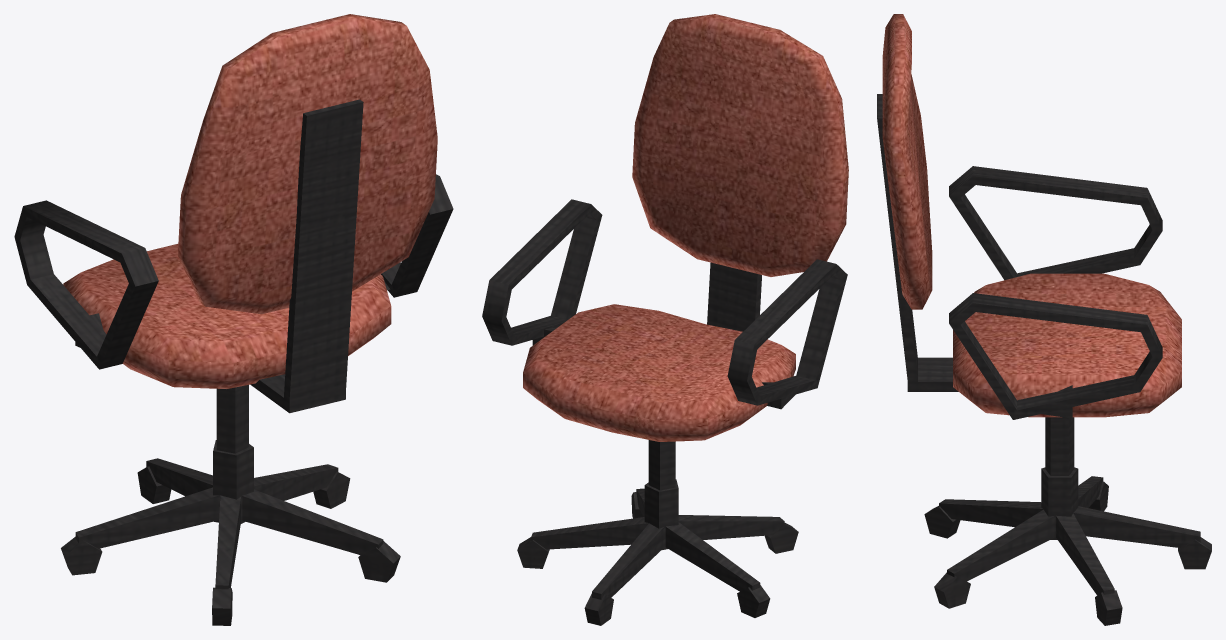
The model's file is FUR0210020.fbx.
3 renders of one model, left to right at view 1: azimuth 30°, elevation 25°; view 2: azimuth 150°, elevation 25°; view 3: azimuth 270°, elevation 25°, orthographic. The views are drawn at different scales.
Parts seen in each view (by area): view 1: smFUR0210020; view 2: smFUR0210020; view 3: smFUR0210020.
Boxes of the visible parts, left/top/right/bottom form: smFUR0210020: left=14, top=14, right=453, bottom=625; smFUR0210020: left=482, top=14, right=848, bottom=625; smFUR0210020: left=877, top=14, right=1211, bottom=625.
Bounding box in the file's own units: 67.81 × 122 × 70.03.
Materials: 1 (1 with a texture image).
